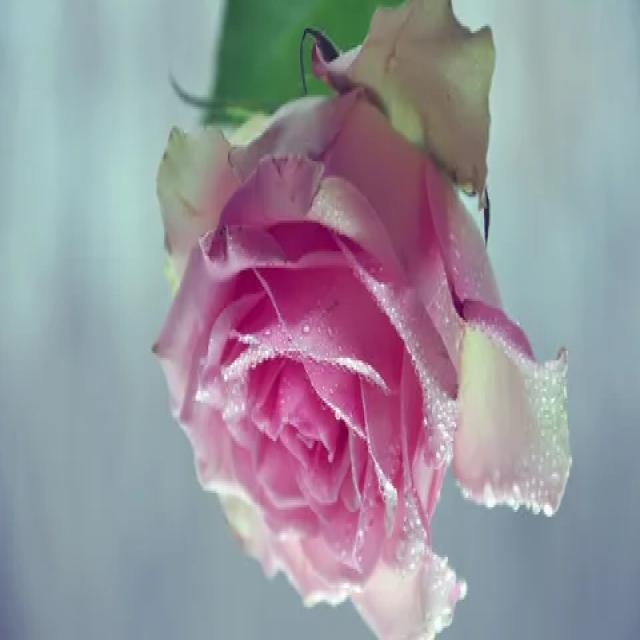rose: (142, 0, 574, 640)
